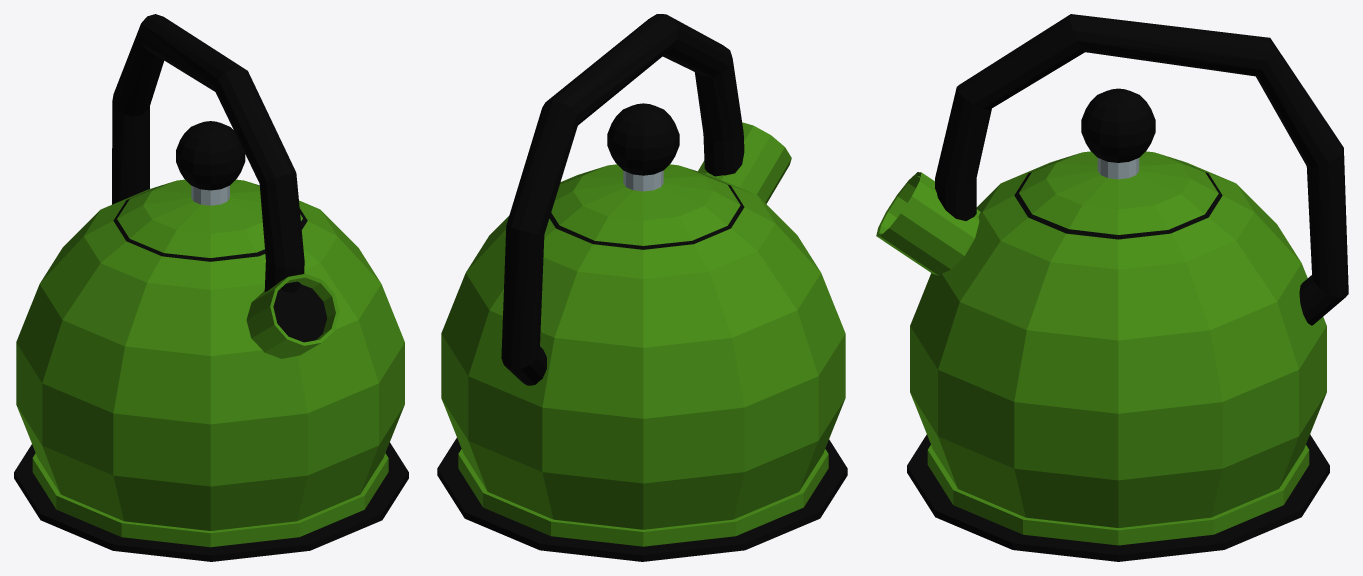
File: Tea Kettle.fbx
3 views of the same model, side by side, from view 1: azimuth 30°, elevation 25°; view 2: azimuth 150°, elevation 25°; view 3: azimuth 270°, elevation 25° (orthographic). The views are drawn at different scales.
Parts seen in each view (by area): view 1: Node-Mesh-0, Node-Mesh-1, Node-Mesh-3; view 2: Node-Mesh-0, Node-Mesh-1, Node-Mesh-3; view 3: Node-Mesh-0, Node-Mesh-1, Node-Mesh-3.
Boxes of the visible parts, x1=… form: Node-Mesh-0: x1=16, y1=179, x2=404, y2=547; Node-Mesh-1: x1=14, y1=14, x2=408, y2=561; Node-Mesh-3: x1=191, y1=185, x2=229, y2=205; Node-Mesh-0: x1=441, y1=122, x2=845, y2=546; Node-Mesh-1: x1=437, y1=14, x2=847, y2=561; Node-Mesh-3: x1=623, y1=170, x2=663, y2=191; Node-Mesh-0: x1=876, y1=151, x2=1326, y2=545; Node-Mesh-1: x1=907, y1=14, x2=1348, y2=561; Node-Mesh-3: x1=1097, y1=158, x2=1139, y2=179.
Size of the model in its own units: 1.12 by 1.34 by 1.25.
